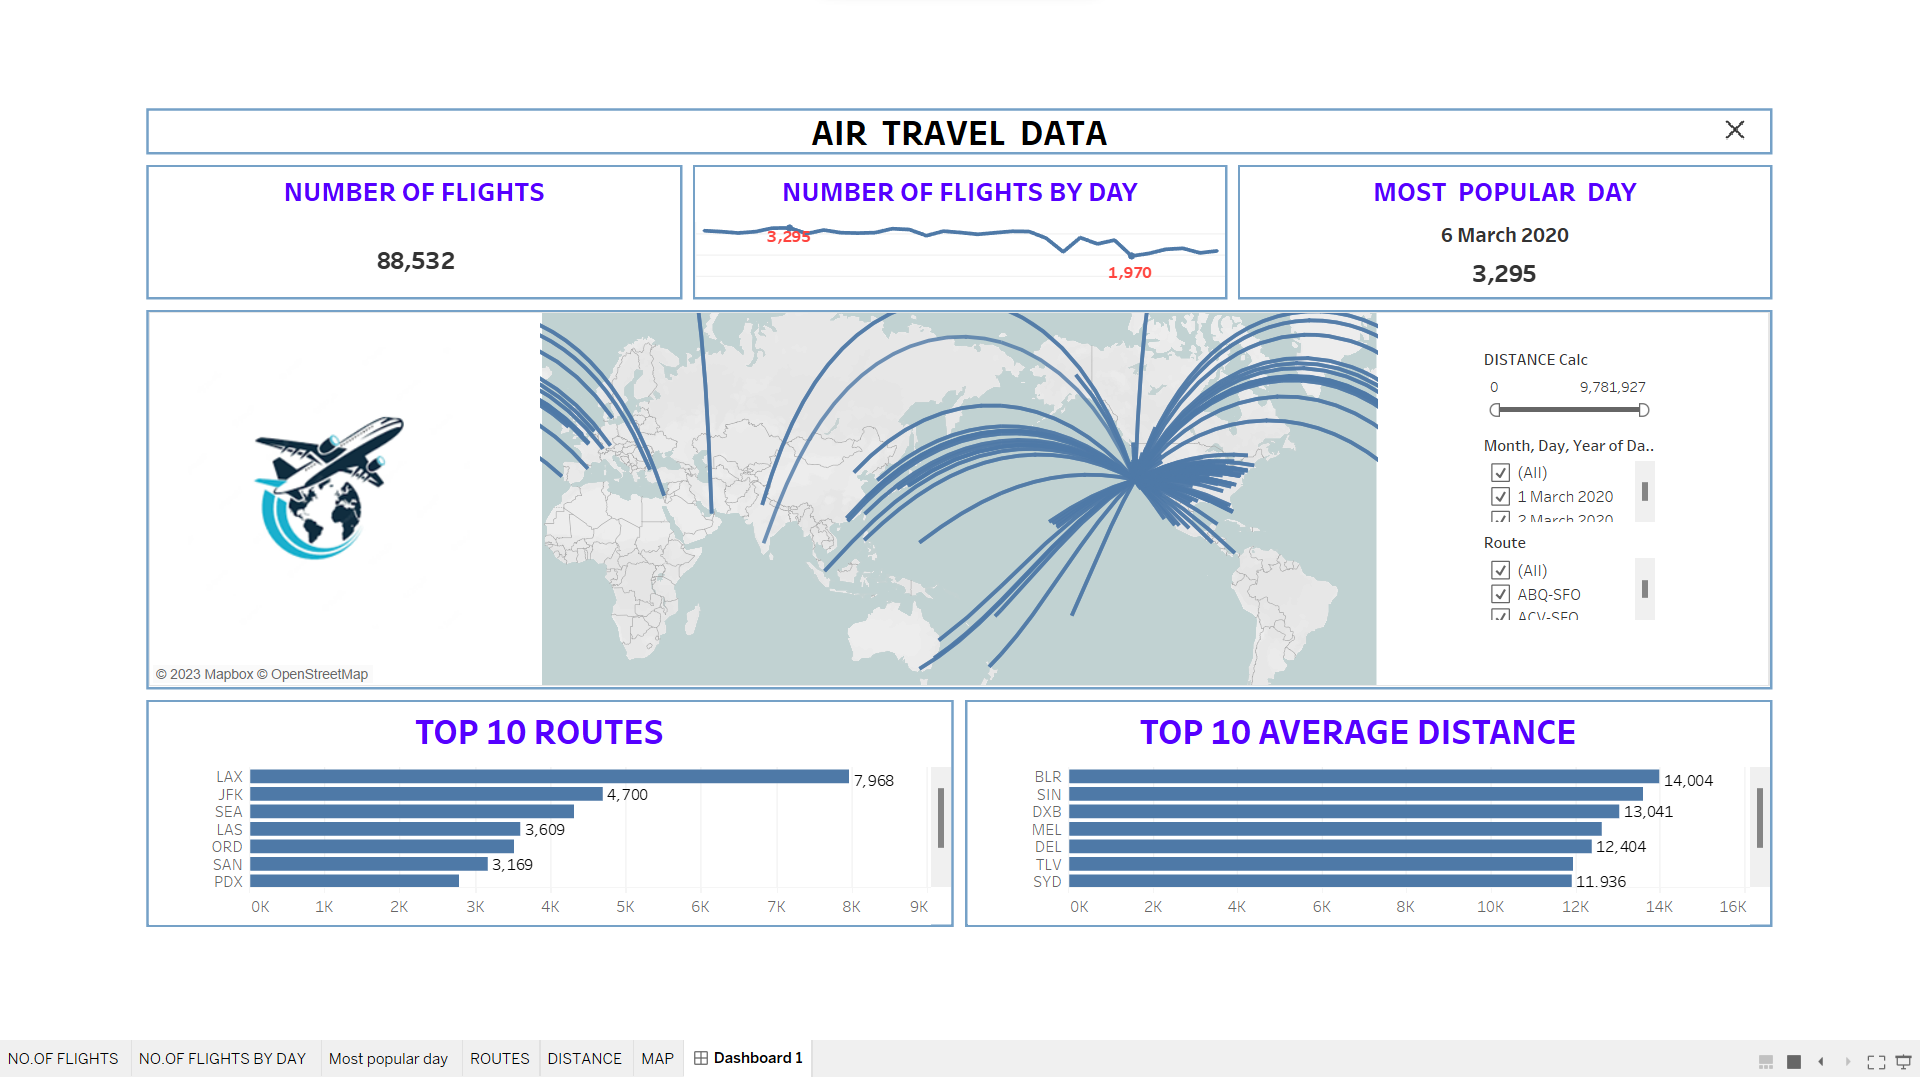

What the dashboard file says about the page in this screenshot:
{"tool":"tableau","page":{"name":"Dashboard 1","canvas":[1325,679],"ordinal":0},"visuals":[{"type":"title","box":[8,8,1309,45]},{"type":"dashboard-object","box":[1271,17,24,24]},{"type":"worksheet","title":"NO.OF FLIGHTS","mark":"Automatic","box":[8,53,437,116]},{"type":"worksheet","title":"NO.OF FLIGHTS BY DAY","mark":"Automatic","rows":["Calculation_364510127115526144"],"cols":["Date"],"box":[445,53,436,116]},{"type":"worksheet","title":"Most popular day","mark":"Automatic","cols":["Date"],"box":[881,53,436,116]},{"type":"worksheet","title":"MAP","mark":"Automatic","box":[8,169,1309,312]},{"type":"filter","title":"MAP","param":"[federated.1ywnvfy082nrxl120l9rs1a0b8x4].[sum:Calculation_364510127128403972:qk]","box":[1078,200,145,69]},{"type":"image","param":"Image/air image 2.png","box":[45,203,255,226]},{"type":"filter","title":"Most popular day","param":"[federated.1ywnvfy082nrxl120l9rs1a0b8x4].[md:Date:ok]","box":[1078,269,145,78.5]},{"type":"filter","title":"ROUTES","param":"[federated.1ywnvfy082nrxl120l9rs1a0b8x4].[none:Route:nk]","box":[1078,347.5,145,78.5]},{"type":"worksheet","title":"ROUTES","mark":"Automatic","rows":["Calculation_364510127123415041"],"cols":["Calculation_364510127115526144"],"box":[8,481,654.5,190]},{"type":"worksheet","title":"DISTANCE","mark":"Automatic","rows":["Calculation_364510127123415041"],"cols":["Calculation_364510127128403972"],"box":[662.5,481,654.5,190]}]}

Visuals, with their boxes on the page's 1325x679 design canvas (x1, y1, x2, y2). These are canvas units, not pixel positions in the 1920x1077 screenshot, which may show the page scaled, cropped or inside an application window:
title: <bbox>8, 8, 1317, 53</bbox>
dashboard-object: <bbox>1271, 17, 1295, 41</bbox>
"NO.OF FLIGHTS" worksheet: <bbox>8, 53, 445, 169</bbox>
"NO.OF FLIGHTS BY DAY" worksheet: <bbox>445, 53, 881, 169</bbox>
"Most popular day" worksheet: <bbox>881, 53, 1317, 169</bbox>
"MAP" worksheet: <bbox>8, 169, 1317, 481</bbox>
"MAP" filter: <bbox>1078, 200, 1223, 269</bbox>
image: <bbox>45, 203, 300, 429</bbox>
"Most popular day" filter: <bbox>1078, 269, 1223, 348</bbox>
"ROUTES" filter: <bbox>1078, 348, 1223, 426</bbox>
"ROUTES" worksheet: <bbox>8, 481, 662, 671</bbox>
"DISTANCE" worksheet: <bbox>662, 481, 1317, 671</bbox>
